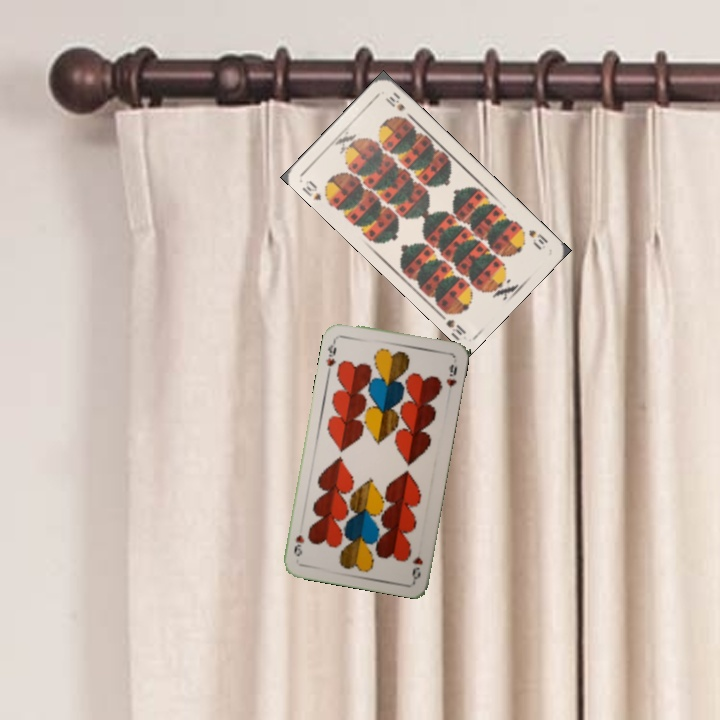H9: (322, 335, 339, 376), (408, 551, 425, 582)
S10: (298, 176, 333, 206), (524, 226, 550, 252)
